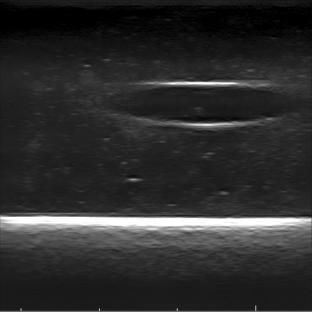vessel: (126, 79, 287, 131)
